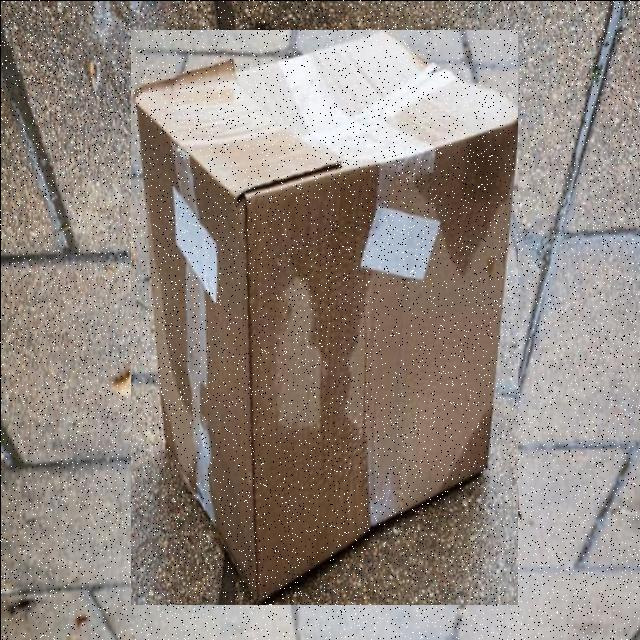defect: (130, 29, 517, 604)
